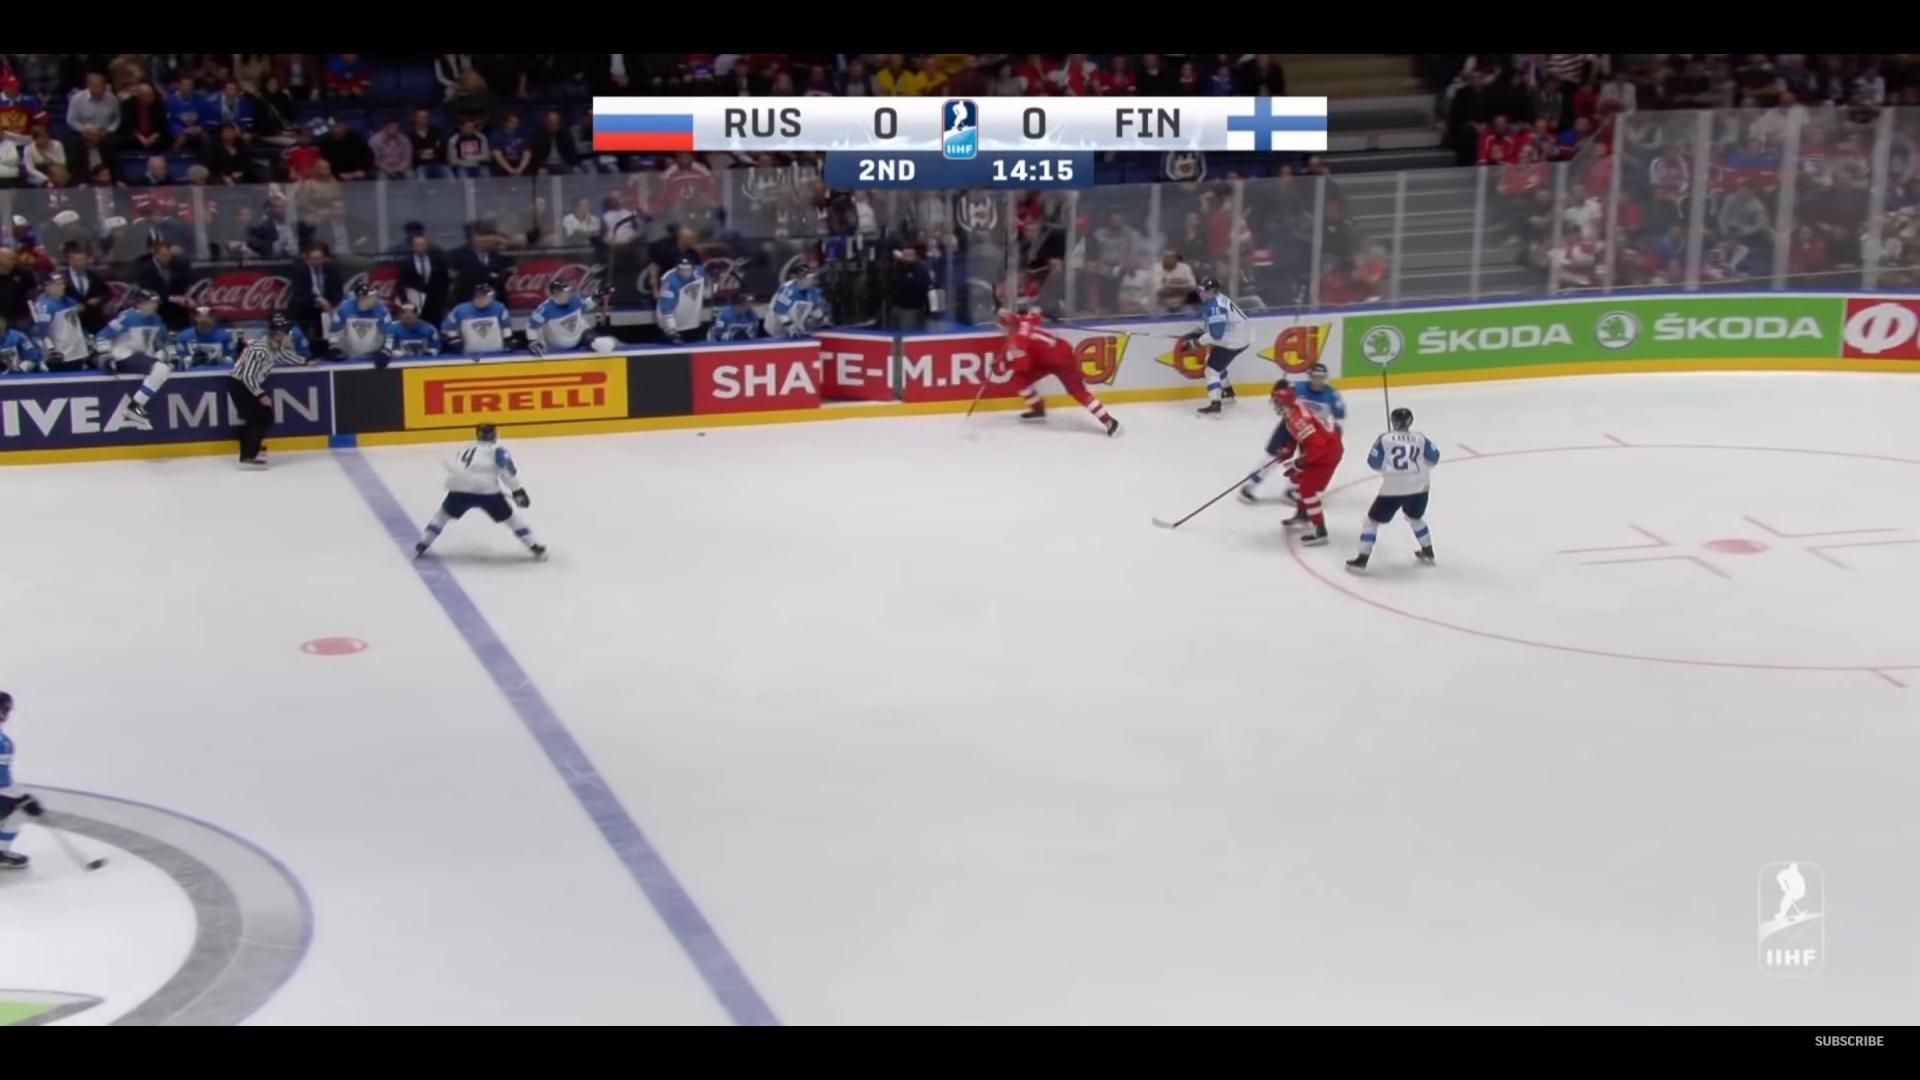puck: (695, 431, 705, 436)
